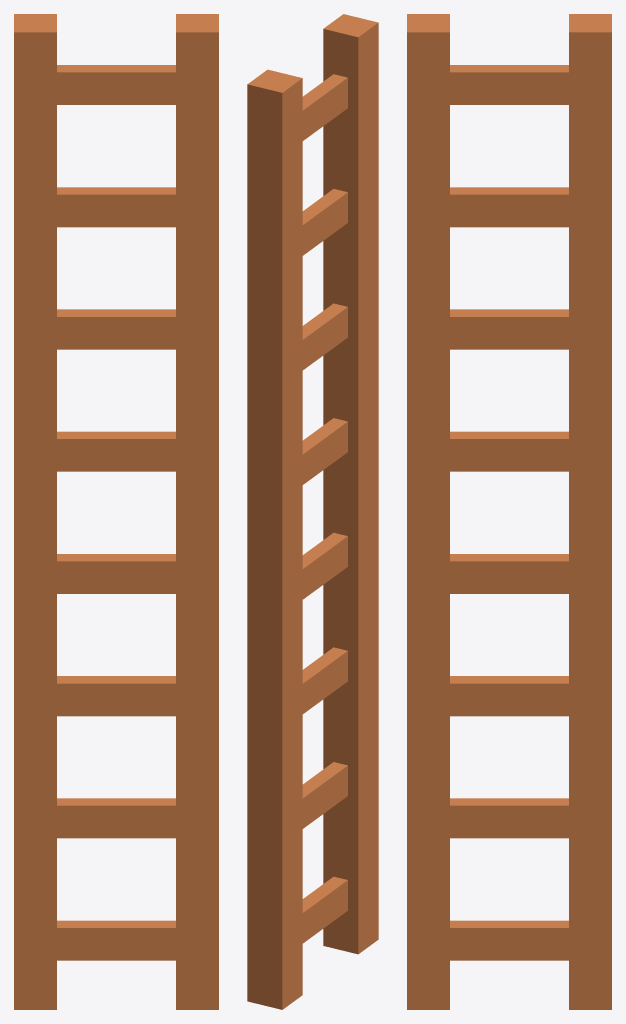
File: ladderLong.fbx
3 renders of one model, left to right at view 1: azimuth 90°, elevation 25°; view 2: azimuth 150°, elevation 25°; view 3: azimuth 270°, elevation 25°, orthographic. The views are drawn at different scales.
Parts seen in each view (by area): view 1: ladderLong; view 2: ladderLong; view 3: ladderLong.
Part boxes in pixels (x1,y1,x2,y2): ladderLong: (14,14,218,1009); ladderLong: (247,14,378,1009); ladderLong: (407,14,611,1009).
Size of the model in its own units: 0.8 by 20 by 3.8.
